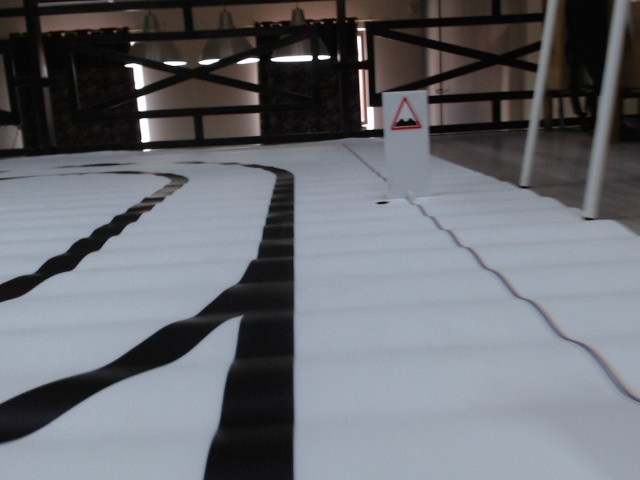Nerov: (387, 96, 425, 130)
